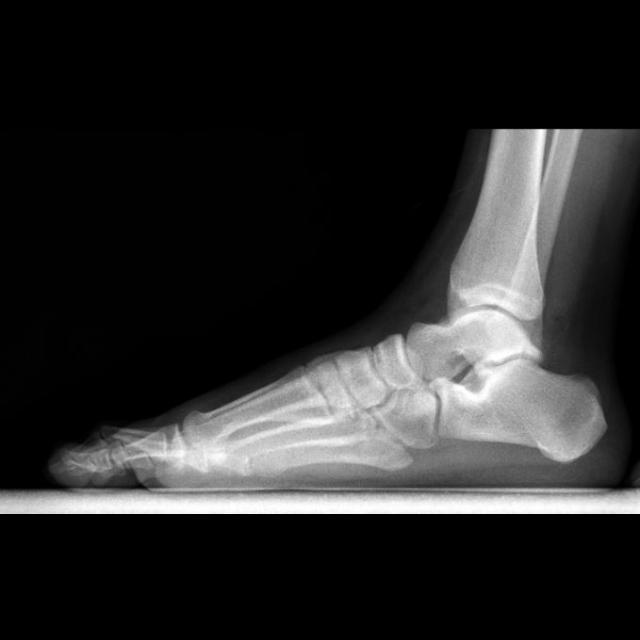a: (434, 359, 607, 464)
b: (373, 333, 424, 390)
c: (184, 366, 336, 450)
